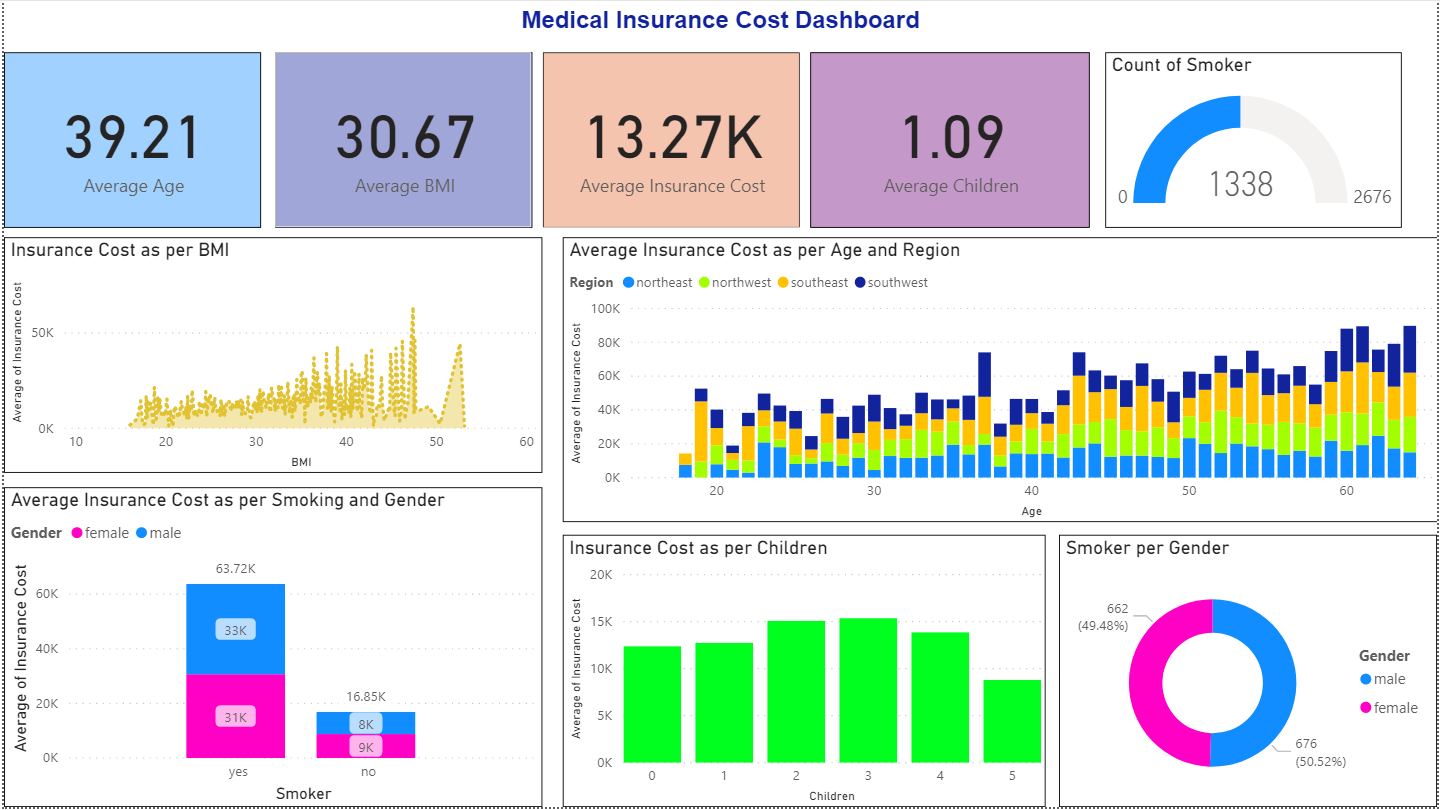

This screenshot's page, from the dashboard's own definition file:
{"tool":"powerbi","page":{"name":"Page 1","canvas":[1280,720],"ordinal":0},"visuals":[{"type":"card","fields":{"Values":["Avg(insurance.Age)"]},"box":[0,45.3,229.4,156.6],"z":0},{"type":"textbox","box":[0,0,1280,45.3],"z":1000},{"type":"card","fields":{"Values":["Avg(insurance.BMI)"]},"box":[241.7,45.3,229.4,156.6],"z":2000},{"type":"card","fields":{"Values":["Avg(insurance.Insurance Cost)"]},"box":[480.7,45.3,229.4,156.6],"z":3000},{"type":"donutChart","title":"Smoker per Gender","fields":{"Y":["CountNonNull(insurance.Smoker)"],"Series":["insurance.Gender"]},"box":[942.1,476.6,337.9,243.1],"z":4000},{"type":"lineStackedColumnComboChart","title":"Average Insurance Cost as per Smoking and Gender","fields":{"Y":["Avg(insurance.Insurance Cost)"],"Category":["insurance.Smoker"],"Series":["insurance.Gender"]},"box":[0,434,480.7,285.7],"z":5000},{"type":"gauge","fields":{"Y":["CountNonNull(insurance.Smoker)"]},"box":[983.3,45.3,265.1,156.6],"z":6000},{"type":"lineStackedColumnComboChart","title":"Average Insurance Cost as per Age and Region","fields":{"Y":["Avg(insurance.Insurance Cost)"],"Category":["insurance.Age"],"Series":["insurance.Region"]},"box":[498.5,211.5,781.5,254.1],"z":7000},{"type":"clusteredColumnChart","title":"Insurance Cost as per Children","fields":{"Y":["Avg(insurance.Insurance Cost)"],"Category":["insurance.Children"]},"box":[498.5,476.6,431.2,243.1],"z":8000},{"type":"areaChart","title":"Insurance Cost as per BMI","fields":{"Category":["insurance.BMI"],"Y":["Avg(insurance.Insurance Cost)"]},"box":[0,211.5,480.7,210.1],"z":9000},{"type":"card","fields":{"Values":["Avg(insurance.Children)"]},"box":[719.7,45.3,250,156.6],"z":10000}]}

Visuals, with their boxes in screenshot pixels (x1, y1, x2, y2), scaled from the page's 1280x720 canvas onto the 1440x810 screenshot:
card - Avg(insurance.Age): [0,51,258,227]
textbox: [0,0,1439,51]
card - Avg(insurance.BMI): [272,51,530,227]
card - Avg(insurance.Insurance Cost): [541,51,799,227]
"Smoker per Gender" donutChart: [1060,536,1439,809]
"Average Insurance Cost as per Smoking and Gender" lineStackedColumnComboChart: [0,488,541,809]
gauge - CountNonNull(insurance.Smoker): [1106,51,1404,227]
"Average Insurance Cost as per Age and Region" lineStackedColumnComboChart: [561,238,1439,524]
"Insurance Cost as per Children" clusteredColumnChart: [561,536,1046,809]
"Insurance Cost as per BMI" areaChart: [0,238,541,474]
card - Avg(insurance.Children): [810,51,1091,227]
